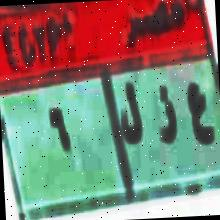6: (48, 102, 74, 157)
ain: (186, 82, 214, 152)
laam: (117, 80, 144, 153)
zay: (154, 84, 178, 146)
